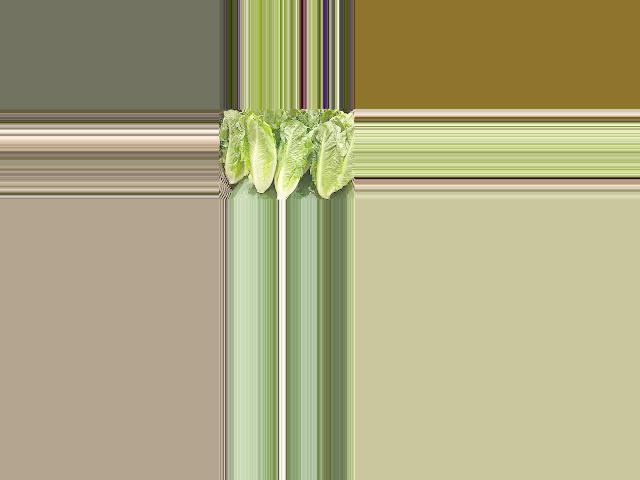lettuce: (224, 109, 246, 181)
